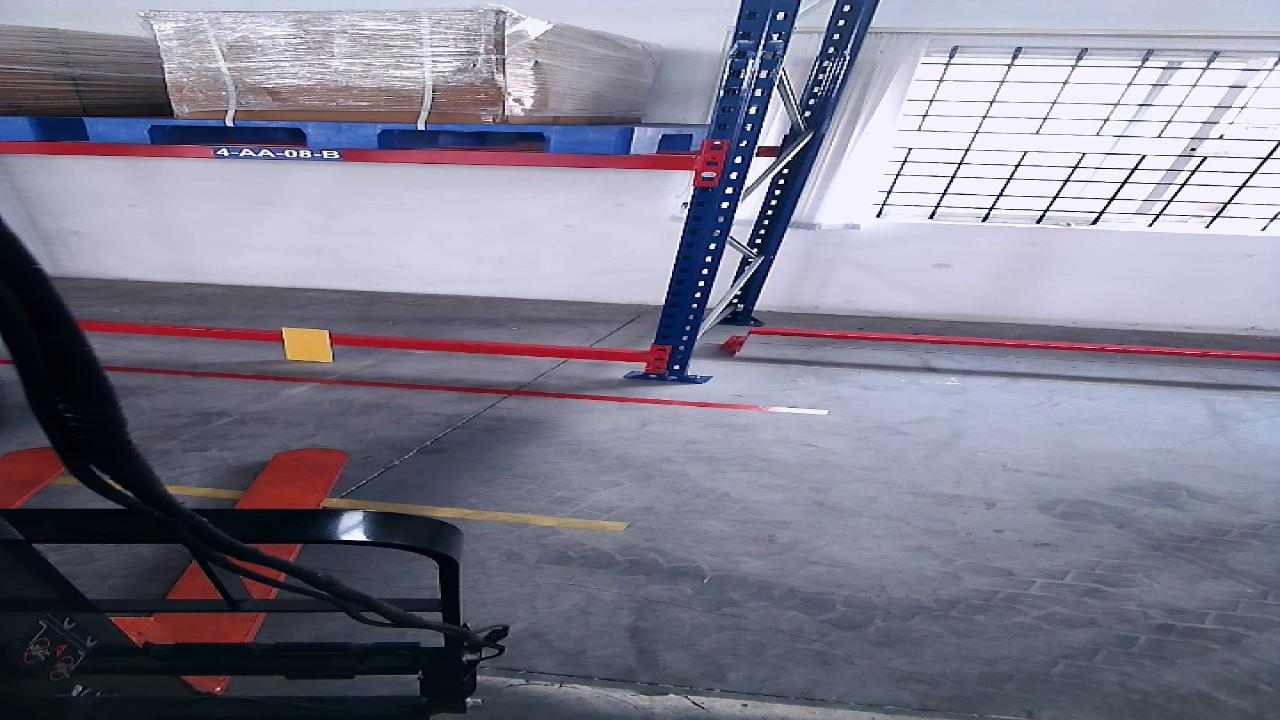h_rack: (81, 323, 646, 362), (0, 142, 690, 170)
orange_strip: (283, 328, 329, 363)
red_line: (106, 363, 827, 415)
small_pallet: (83, 118, 617, 154)
yellow_line: (167, 484, 629, 532)
